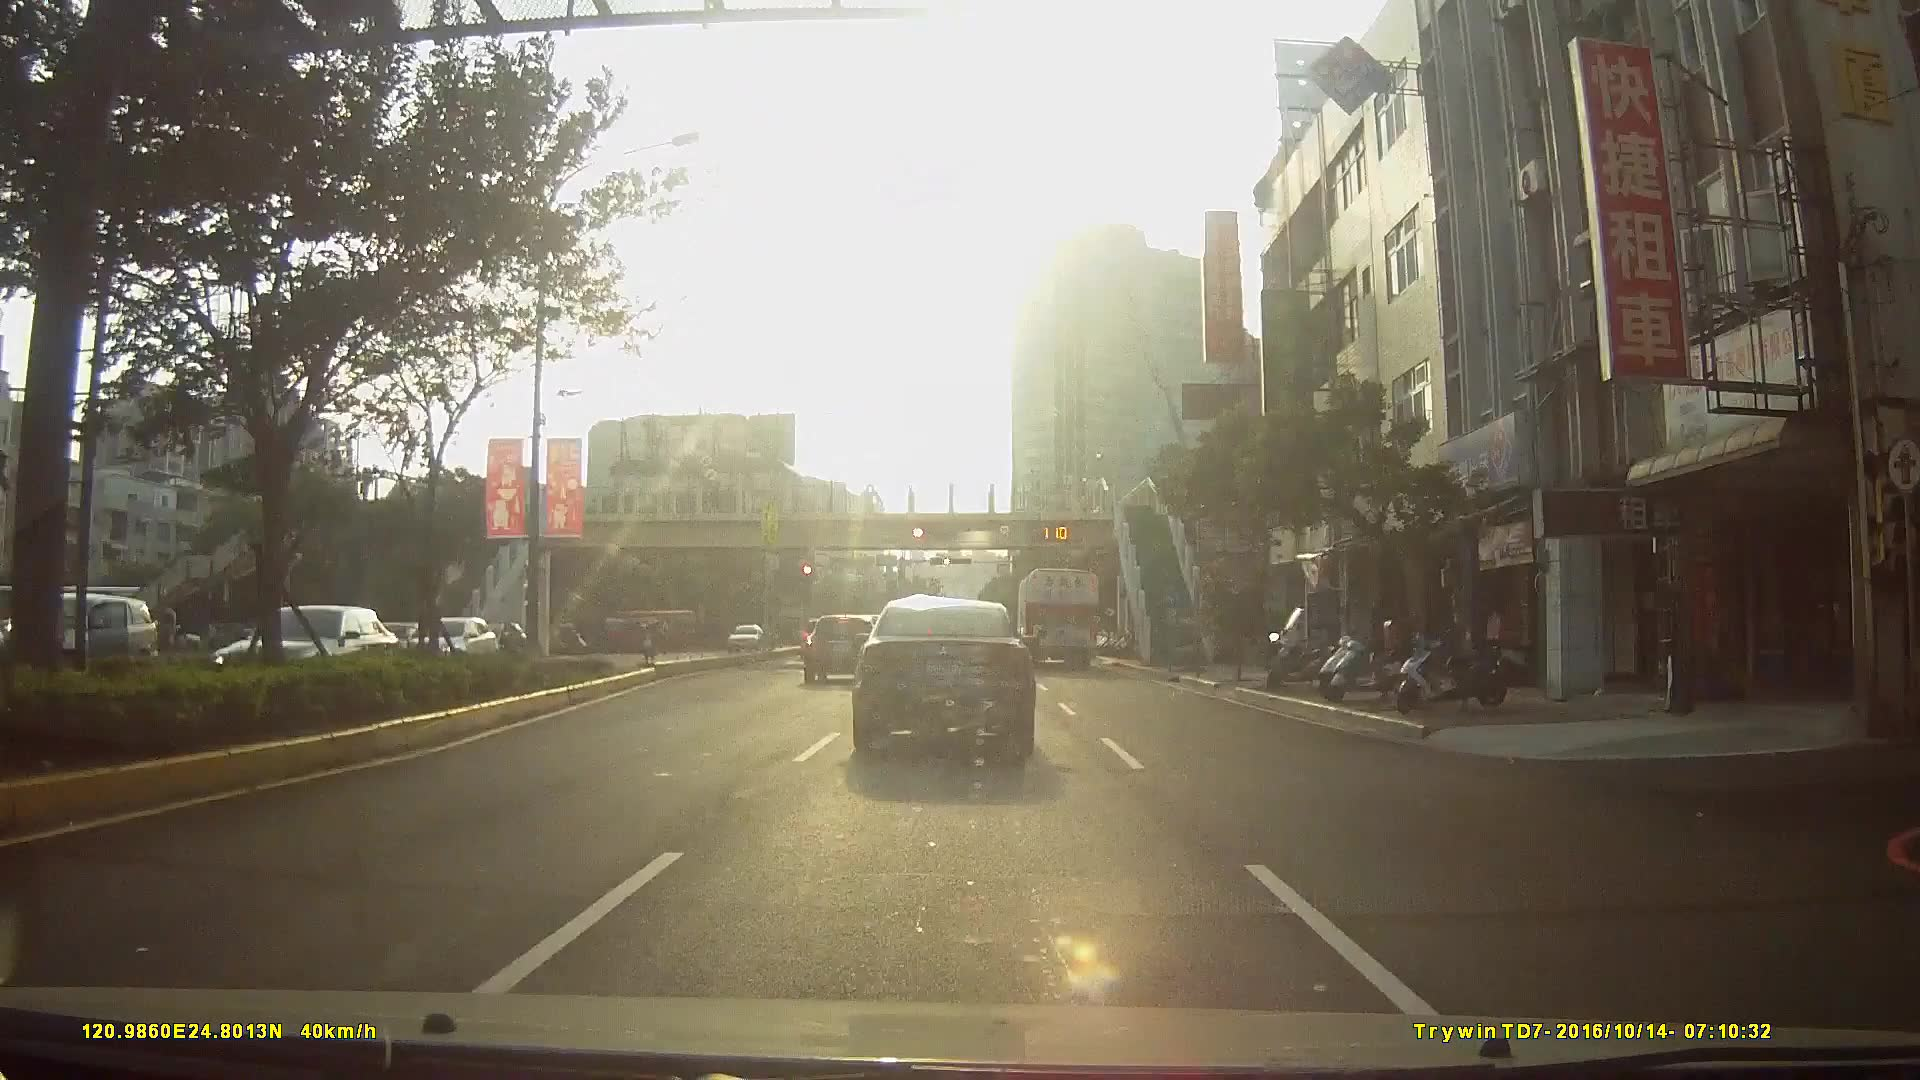vehicle: (849, 593, 1036, 753), (0, 589, 154, 675), (1014, 562, 1104, 669), (800, 611, 880, 686), (725, 620, 765, 651)
